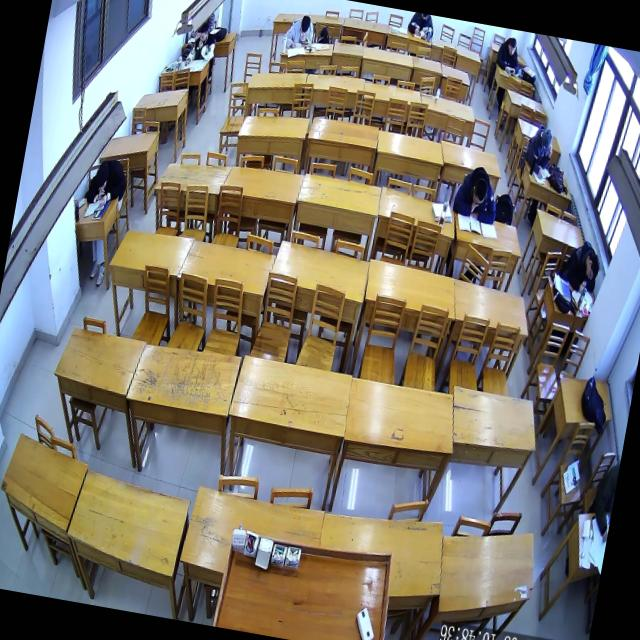bow: (450, 162, 504, 226), (80, 152, 130, 210)
down: (468, 176, 489, 208), (92, 160, 112, 193), (583, 252, 602, 284), (538, 126, 555, 153), (196, 22, 210, 46), (298, 13, 312, 36), (505, 36, 518, 58), (503, 65, 516, 76)
sit: (558, 236, 605, 296), (521, 120, 557, 181), (183, 17, 219, 70), (280, 8, 317, 52), (494, 33, 525, 78)
